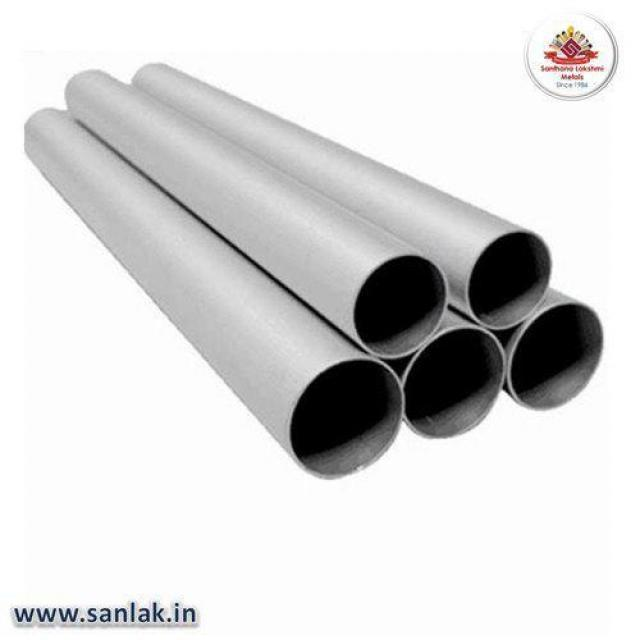pipe: (289, 353, 407, 484), (402, 322, 508, 441), (506, 300, 609, 415), (349, 251, 452, 363), (465, 226, 556, 332)
